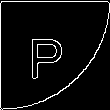P_N: (36, 29, 74, 81)
